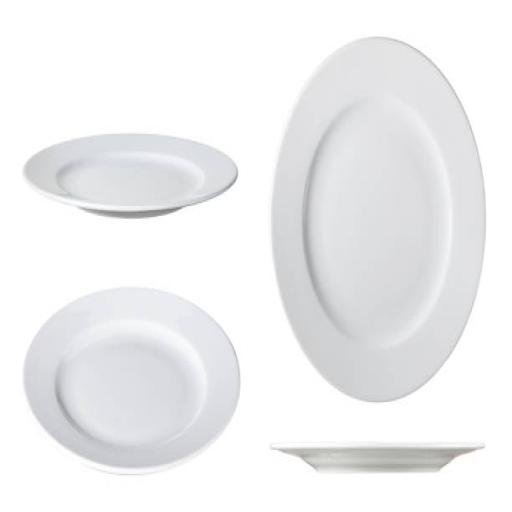piring: (271, 35, 488, 405), (20, 284, 242, 473), (22, 130, 240, 228), (267, 440, 493, 478)
